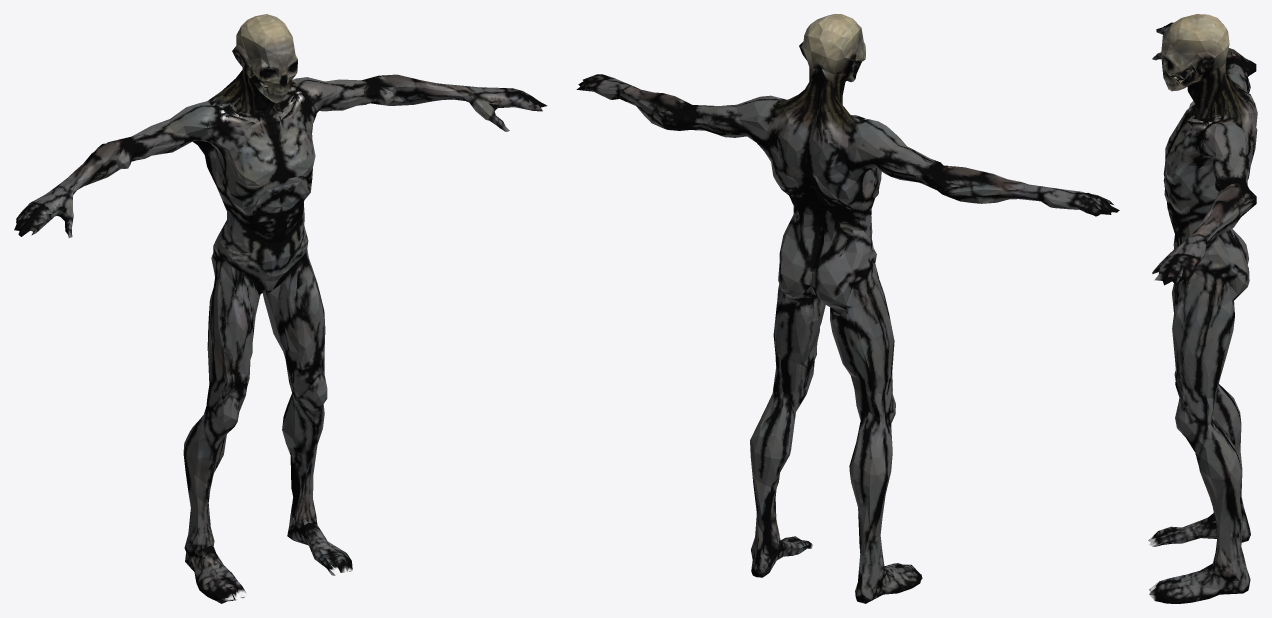
Rendered from ghoul.gltf.
3 renders of one model, left to right at view 1: azimuth 30°, elevation 25°; view 2: azimuth 150°, elevation 25°; view 3: azimuth 270°, elevation 25°, orthographic.
Visible parts, largest first — view 1: ghoul; view 2: ghoul; view 3: ghoul.
Boxes of the visible parts, bbox=[...] form: ghoul: bbox=[14, 14, 547, 603]; ghoul: bbox=[576, 14, 1119, 603]; ghoul: bbox=[1148, 14, 1257, 603].
Bounding box in the file's own units: 1 × 0.9981 × 0.1785.
1 material, 1 textured.
